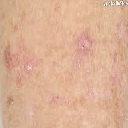Actinic: (3, 45, 18, 70), (76, 35, 92, 55)
